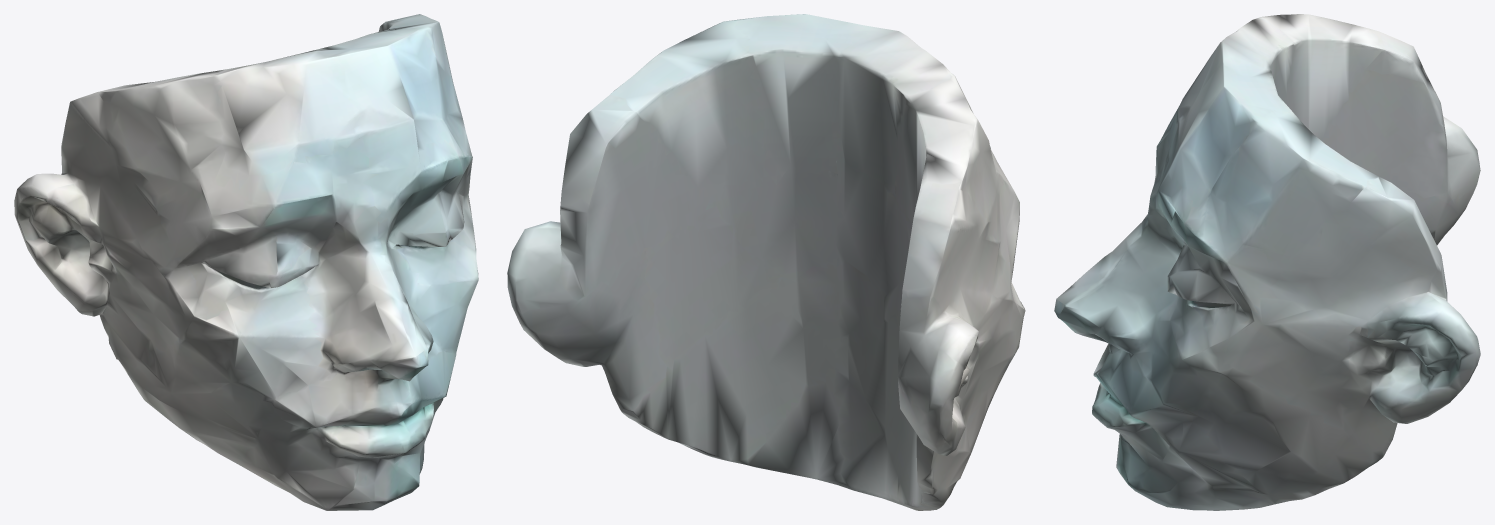
The picture shows the model from 3 angles, left to right: view 1: azimuth 30°, elevation 25°; view 2: azimuth 150°, elevation 25°; view 3: azimuth 270°, elevation 25°; orthographic projection. The views are drawn at different scales.
Visible parts, largest first — view 1: tripo_node_266b6054-802c-4d3c-a03e-3ccaf42c1e60; view 2: tripo_node_266b6054-802c-4d3c-a03e-3ccaf42c1e60; view 3: tripo_node_266b6054-802c-4d3c-a03e-3ccaf42c1e60.
Boxes of the visible parts, x1=… form: tripo_node_266b6054-802c-4d3c-a03e-3ccaf42c1e60: x1=14, y1=14, x2=478, y2=510; tripo_node_266b6054-802c-4d3c-a03e-3ccaf42c1e60: x1=507, y1=14, x2=1025, y2=510; tripo_node_266b6054-802c-4d3c-a03e-3ccaf42c1e60: x1=1054, y1=14, x2=1480, y2=510.
Bounding box in the file's own units: 0.9827 × 1 × 0.8805.
Materials: 1 (1 with a texture image).
